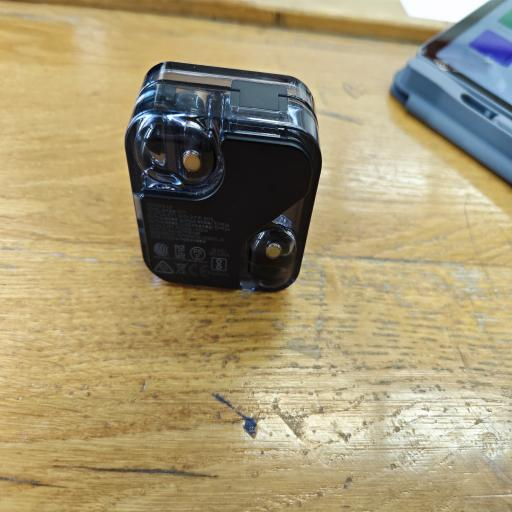Headphones: (113, 42, 334, 304)
